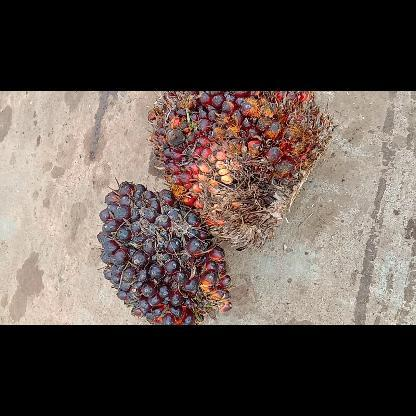TBS masak: (148, 90, 330, 248)
TBS mentah: (97, 178, 231, 324)
